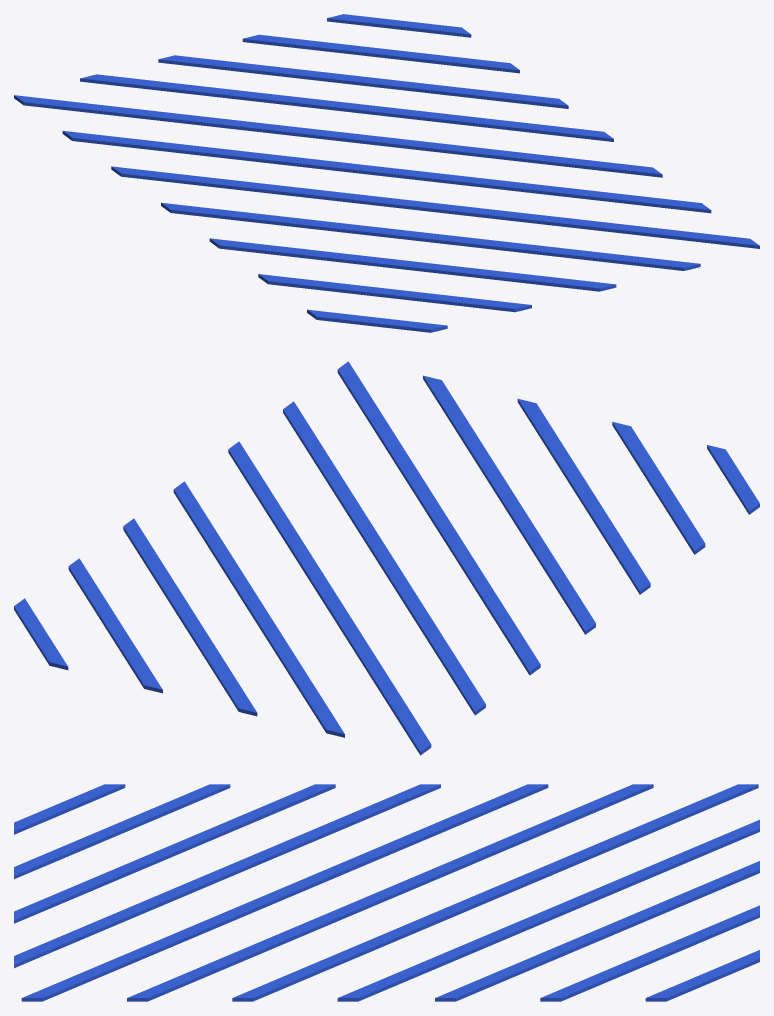
The model's file is teleport_pad.glb.
3 renders of one model, top to bottom at view 1: azimuth 30°, elevation 25°; view 2: azimuth 150°, elevation 25°; view 3: azimuth 270°, elevation 25°, orthographic. The views are drawn at different scales.
Visible parts, largest first — view 1: Cube.001; view 2: Cube.001; view 3: Cube.001.
Part boxes in pixels (<box>): Cube.001: <box>14,14,759,332</box>; Cube.001: <box>14,361,759,755</box>; Cube.001: <box>14,784,759,1001</box>.
Bounding box in the file's own units: 3.84 × 0.0293 × 5.67.
